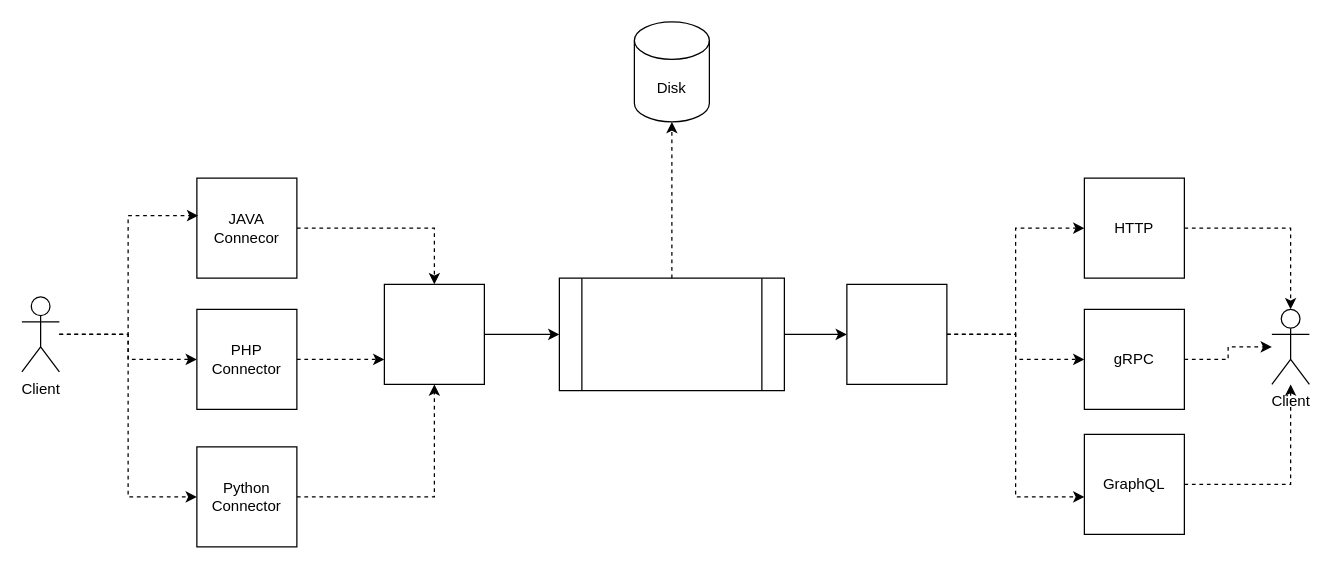
Image size: 1331x569. Some labels were removed from this diagram. Here are the shapes that lost their labels. From the top down, the box of each, then its label:
(383, 283, 484, 384): Command Multiplexer
(558, 277, 784, 391): Engine
(846, 283, 947, 384): Sender
